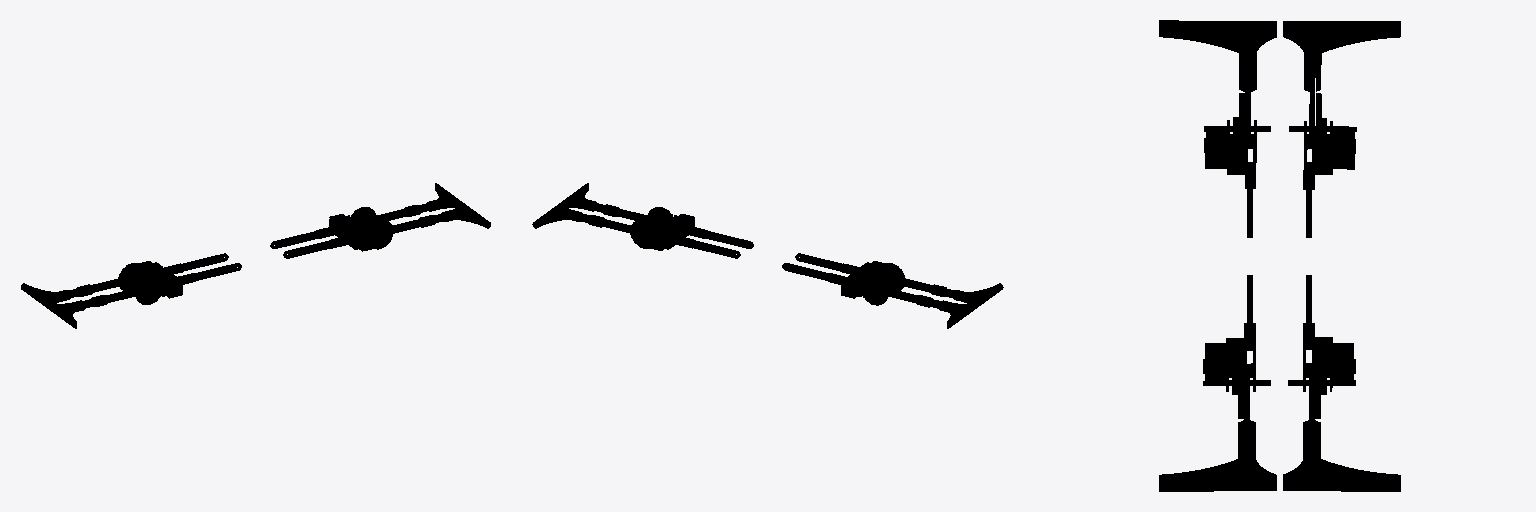
robot.urdf — quadruped:
<?xml version ="1.0" encoding="utf-8"?>

<robot name="quadruped" >


  <link name="dummy">
  </link>

  <material name="black">
    <color rgba="0 0 0 0.5"/>
  </material>

  <joint name="dummy_joint" type="fixed">
     <parent link="dummy"/>
     <child link="body"/>
  </joint>

  <link name="body">
    <inertial>
      <mass value="8.4" />
      <inertia ixx="0.14596" ixy="0.00010"  ixz="0.00013"
               iyy="0.08855" iyz="-0.03467"
               izz="0.11796" />
    </inertial>
    <visual>
      <origin rpy="1.57 0 1.57" xyz="0 0 0"/>
      <geometry>
        <mesh filename="package://quadruped_description/meshes/frame_aluminum_motor_case.stl"/>
      </geometry>
      <material name="black"/>
    </visual>
    <collision>
      <origin
        xyz="0 0 0"
        rpy="1.57 0 1.57" />
      <geometry>
        <mesh
          filename="package://quadruped_description/meshes/frame_aluminum_motor_case.stl" />
      </geometry>
    </collision>
  </link>

  <link name="front_left_u">
    <inertial>
      <mass value="0.814" />
      <inertia ixx="0.008" ixy="0.0"  ixz="0.001"
               iyy="0.008" iyz="0.001"
               izz="0.001" />
    </inertial>
    <visual>
      <origin rpy="1.57 0 1.57" xyz="0 0 0"/>
      <geometry>
        <mesh filename="package://quadruped_description/meshes/joint_gear_upper_assembly.stl"/>
      </geometry>
      <material name="black"/>
    </visual>
    <collision>
      <origin
        xyz="0 0 0"
        rpy="1.57 0 1.57" />
      <geometry>
        <mesh
          filename="package://quadruped_description/meshes/joint_gear_upper_assembly.stl" />
      </geometry>
    </collision>
  </link>

  <link name="front_right_u">
    <inertial>
      <mass value="0.814" />
      <inertia ixx="7701247.352E-09" ixy="96047.710E-09"  ixz="-1228944.675E-09"
               iyy="7801785.041E-09" iyz="550113.749E-09"
               izz="877983.793E-09" />
    </inertial>
    <visual>
      <origin rpy="1.57 3.14 1.57" xyz="0 0 0"/>
      <geometry>
        <mesh filename="package://quadruped_description/meshes/joint_gear_upper_assembly.stl"/>
      </geometry>
      <material name="black"/>
    </visual>
    <collision>
      <origin
        xyz="0 0 0"
        rpy="1.57 3.14 1.57" />
      <geometry>
        <mesh
          filename="package://quadruped_description/meshes/joint_gear_upper_assembly.stl" />
      </geometry>
    </collision>
  </link>

  <link name="back_left_u">
    <inertial>
      <mass value="0.814" />
      <inertia ixx="7701247.352E-09" ixy="96047.710E-09"  ixz="-1228944.675E-09"
               iyy="7801785.041E-09" iyz="550113.749E-09"
               izz="877983.793E-09" />
    </inertial>
    <visual>
      <origin rpy="1.57 3.14 1.57" xyz="0 0 0"/>
      <geometry>
        <mesh filename="package://quadruped_description/meshes/joint_gear_upper_assembly.stl"/>
      </geometry>
      <material name="black"/>
    </visual>
    <collision>
      <origin
        xyz="0 0 0"
        rpy="1.57 3.14 1.57" />
      <geometry>
        <mesh
          filename="package://quadruped_description/meshes/joint_gear_upper_assembly.stl" />
      </geometry>
    </collision>
  </link>

  <link name="back_right_u">
    <inertial>
      <mass value="0.814" />
      <inertia ixx="7701247.352E-09" ixy="96047.710E-09"  ixz="-1228944.675E-09"
               iyy="7801785.041E-09" iyz="550113.749E-09"
               izz="877983.793E-09" />
    </inertial>
    <visual>
      <origin rpy="1.57 0 1.57" xyz="0 0 0"/>
      <geometry>
        <mesh filename="package://quadruped_description/meshes/joint_gear_upper_assembly.stl"/>
      </geometry>
      <material name="black"/>
    </visual>
    <collision>
      <origin
        xyz="0 0 0"
        rpy="1.57 0 1.57" />
      <geometry>
        <mesh
          filename="package://quadruped_description/meshes/joint_gear_upper_assembly.stl" />
      </geometry>
    </collision>
  </link>

  <link name="front_left_d">
    <inertial>
      <mass value="0.5" />
      <inertia ixx="7141392.287E-09" ixy="-13.226E-09"  ixz="-913664.184E-09"
               iyy="7895374.282E-09" iyz="-31.485E-09"
               izz="830881.651E-09" />
    </inertial>
    <visual>
      <origin rpy="1.57 0 1.57" xyz="0 0 0"/>
      <geometry>
        <mesh filename="package://quadruped_description/meshes/Assembly_lower_link_v2.stl"/>
      </geometry>
      <material name="black"/>
    </visual>
    <collision>
      <origin
        xyz="0 0 0"
        rpy="1.57 0 1.57" />
      <geometry>
        <mesh
          filename="package://quadruped_description/meshes/Assembly_lower_link_v2.stl" />
      </geometry>
    </collision>
  </link>

  <link name="front_right_d">
    <inertial>
      <mass value="0.5" />
      <inertia ixx="7141392.287E-09" ixy="-13.226E-09"  ixz="-913664.184E-09"
               iyy="7895374.282E-09" iyz="-31.485E-09"
               izz="830881.651E-09" />
    </inertial>
    <visual>
      <origin rpy="-1.57 0 -1.57" xyz="0 0 0"/>
      <geometry>
        <mesh filename="package://quadruped_description/meshes/Assembly_lower_link_v2.stl"/>
      </geometry>
      <material name="black"/>
    </visual>
    <collision>
      <origin
        xyz="0 0 0"
        rpy="-1.57 0 -1.57" />
      <geometry>
        <mesh
          filename="package://quadruped_description/meshes/Assembly_lower_link_v2.stl" />
      </geometry>
    </collision>
  </link>
  
  <link name="back_left_d">
    <inertial>
      <mass value="0.5" />
      <inertia ixx="7141392.287E-09" ixy="-13.226E-09"  ixz="-913664.184E-09"
               iyy="7895374.282E-09" iyz="-31.485E-09"
               izz="830881.651E-09" />
    </inertial>
    <visual>
      <origin rpy="-1.57 0 -1.57" xyz="0 0 0"/>
      <geometry>
        <mesh filename="package://quadruped_description/meshes/Assembly_lower_link_v2.stl"/>
      </geometry>
      <material name="black"/>
    </visual>
    <collision>
      <origin
        xyz="0 0 0"
        rpy="-1.57 0 -1.57" />
      <geometry>
        <mesh
          filename="package://quadruped_description/meshes/Assembly_lower_link_v2.stl" />
      </geometry>
    </collision>
  </link>
  
  <link name="back_right_d">
    <inertial>
      <mass value="0.5" />
      <inertia ixx="7141392.287E-09" ixy="-13.226E-09"  ixz="-913664.184E-09"
               iyy="7895374.282E-09" iyz="-31.485E-09"
               izz="830881.651E-09" />
    </inertial>
    <visual>
      <origin rpy="1.57 0 1.57" xyz="0 0 0"/>
      <geometry>
        <mesh filename="package://quadruped_description/meshes/Assembly_lower_link_v2.stl"/>
      </geometry>
      <material name="black"/>
    </visual>
    <collision>
      <origin
        xyz="0 0 0"
        rpy="1.57 0 1.57" />
      <geometry>
        <mesh
          filename="package://quadruped_description/meshes/Assembly_lower_link_v2.stl" />
      </geometry>
    </collision>
  </link>
 
    <joint name="front_right_joint1" type="revolute">
    <limit effort="1000.0" lower="-3.14" upper="3.14" velocity="0.5"/>
    <parent link="body"/>
    <child link="front_right_u"/>
    <origin xyz="0.11 -0.05 0" rpy="0 0 0" />
    <axis xyz="0 1 0" />
  </joint>

  <joint name="front_right_joint2" type="revolute">
    <limit effort="1000.0" lower="-3.14" upper="3.14" velocity="0.5"/>
    <parent link="front_right_u"/>
    <child link="front_right_d"/>
    <origin xyz="0.4 -0.005 0" rpy="0 0 0" />
    <axis xyz="0 1 0" />
  </joint>

  <joint name="front_left_joint1" type="revolute">
    <limit effort="1000.0" lower="-3.14" upper="3.14" velocity="0.5"/>
    <parent link="body"/>
    <child link="front_left_u"/>
    <origin xyz="0.11 0.05 0" rpy="0 0 0" />
    <axis xyz="0 1 0" />
  </joint>

  <joint name="front_left_joint2" type="revolute">
    <limit effort="1000.0" lower="-3.14" upper="3.14" velocity="0.5"/>
    <parent link="front_left_u"/>
    <child link="front_left_d"/>
    <origin xyz="0.4 0.005 0" rpy="0 0 0" />
    <axis xyz="0 1 0" />
  </joint>

  <joint name="back_left_joint1" type="revolute">
    <limit effort="1000.0" lower="-3.14" upper="3.14" velocity="0.5"/>
    <parent link="body"/>
    <child link="back_left_u"/>
    <origin xyz="-0.11 0.05 0" rpy="0 0 3.14" />
    <axis xyz="0 1 0" />
  </joint>

  <joint name="back_left_joint2" type="revolute">
    <limit effort="1000.0" lower="-3.14" upper="3.14" velocity="0.5"/>
    <parent link="back_left_u"/>
    <child link="back_left_d"/>
    <origin xyz="0.4 -0.005 0" rpy="0 0 0" />
    <axis xyz="0 1 0" />
  </joint>

  <joint name="back_right_joint1" type="revolute">
    <limit effort="1000.0" lower="-3.14" upper="3.14" velocity="0.5"/>
    <parent link="body"/>
    <child link="back_right_u"/>
    <origin xyz="-0.11 -0.05 0" rpy="0 0 3.14" />
    <axis xyz="0 1 0" />
  </joint>  

  <joint name="back_right_joint2" type="revolute">
    <limit effort="1000.0" lower="-3.14" upper="3.14" velocity="0.5"/>
    <parent link="back_right_u"/>
    <child link="back_right_d"/>
    <origin xyz="0.4 0.005 0" rpy="0 0 0" />
    <axis xyz="0 1 0" />
  </joint>

  <!-- ///////////////////////////////////////////////////////////////////////////////////////////////////////////////////// -->
  <!-- Transmissions for ROS Control -->

  <transmission name="tran1">
    <type>transmission_interface/SimpleTransmission</type>
    <joint name="front_right_joint1">
      <hardwareInterface>hardware_interface/PositionJointInterface</hardwareInterface>
    </joint>
    <actuator name="motor1">
      <hardwareInterface>hardware_interface/PositionJointInterface</hardwareInterface>
      <mechanicalReduction>1</mechanicalReduction>
    </actuator>
  </transmission>
  
  <transmission name="tran2">
    <type>transmission_interface/SimpleTransmission</type>
    <joint name="front_right_joint2">
      <hardwareInterface>hardware_interface/PositionJointInterface</hardwareInterface>
    </joint>
    <actuator name="motor2">
      <hardwareInterface>hardware_interface/PositionJointInterface</hardwareInterface>
      <mechanicalReduction>1</mechanicalReduction>
    </actuator>
  </transmission>

  <transmission name="tran3">
    <type>transmission_interface/SimpleTransmission</type>
    <joint name="front_left_joint1">
      <hardwareInterface>hardware_interface/PositionJointInterface</hardwareInterface>
    </joint>
    <actuator name="motor3">
      <hardwareInterface>hardware_interface/PositionJointInterface</hardwareInterface>
      <mechanicalReduction>1</mechanicalReduction>
    </actuator>
  </transmission>

  <transmission name="tran4">
    <type>transmission_interface/SimpleTransmission</type>
    <joint name="front_left_joint2">
      <hardwareInterface>hardware_interface/PositionJointInterface</hardwareInterface>
    </joint>
    <actuator name="motor4">
      <hardwareInterface>hardware_interface/PositionJointInterface</hardwareInterface>
      <mechanicalReduction>1</mechanicalReduction>
    </actuator>
  </transmission>

  <transmission name="tran5">
    <type>transmission_interface/SimpleTransmission</type>
    <joint name="back_left_joint1">
      <hardwareInterface>hardware_interface/PositionJointInterface</hardwareInterface>
    </joint>
    <actuator name="motor5">
      <hardwareInterface>hardware_interface/PositionJointInterface</hardwareInterface>
      <mechanicalReduction>1</mechanicalReduction>
    </actuator>
  </transmission>

  <transmission name="tran6">
    <type>transmission_interface/SimpleTransmission</type>
    <joint name="back_left_joint2">
      <hardwareInterface>hardware_interface/PositionJointInterface</hardwareInterface>
    </joint>
    <actuator name="motor6">
      <hardwareInterface>hardware_interface/PositionJointInterface</hardwareInterface>
      <mechanicalReduction>1</mechanicalReduction>
    </actuator>
  </transmission>

  <transmission name="tran7">
    <type>transmission_interface/SimpleTransmission</type>
    <joint name="back_right_joint1">
      <hardwareInterface>hardware_interface/PositionJointInterface</hardwareInterface>
    </joint>
    <actuator name="motor7">
      <hardwareInterface>hardware_interface/PositionJointInterface</hardwareInterface>
      <mechanicalReduction>1</mechanicalReduction>
    </actuator>
  </transmission>

  <transmission name="tran8">
    <type>transmission_interface/SimpleTransmission</type>
    <joint name="back_right_joint2">
      <hardwareInterface>hardware_interface/PositionJointInterface</hardwareInterface>
    </joint>
    <actuator name="motor8">
      <hardwareInterface>hardware_interface/PositionJointInterface</hardwareInterface>
      <mechanicalReduction>1</mechanicalReduction>
    </actuator>
  </transmission>

  <!-- ros_control plugin -->
  <gazebo>
    <plugin name="gazebo_ros_control" filename="libgazebo_ros_control.so">
      <robotNamespace>/quadruped</robotNamespace>
    </plugin>
  </gazebo>



</robot>

--- What the picture shows (computed from the rendered views, not written in the file) ---
The picture shows the robot from 3 angles, left to right: view 1: azimuth 30°, elevation 25°; view 2: azimuth 150°, elevation 25°; view 3: azimuth 270°, elevation 25°; orthographic projection.
Robot: quadruped — 10 links, 9 joints (8 revolute, 1 fixed); root link dummy; default pose: all joints at 0.
Visible links, largest first — view 1: back_right_u, front_right_u, front_left_u, back_left_u, back_left_d, front_right_d, front_left_d, back_right_d; view 2: back_left_u, front_left_u, front_right_u, back_right_u, back_right_d, front_left_d, front_right_d, back_left_d; view 3: front_left_d, front_right_d, back_right_d, back_left_d, back_right_u, back_left_u, front_left_u, front_right_u.
Boxes of the visible links, left/top/right/bottom form: back_right_u: left=135, top=263, right=241, bottom=304; front_right_u: left=283, top=219, right=393, bottom=258; front_left_u: left=270, top=207, right=376, bottom=248; back_left_u: left=118, top=253, right=228, bottom=290; back_left_d: left=21, top=275, right=139, bottom=308; front_right_d: left=382, top=203, right=490, bottom=238; front_left_d: left=361, top=183, right=462, bottom=227; back_right_d: left=48, top=288, right=154, bottom=328; back_left_u: left=782, top=263, right=888, bottom=305; front_left_u: left=630, top=219, right=740, bottom=258; front_right_u: left=648, top=207, right=753, bottom=248; back_right_u: left=795, top=253, right=904, bottom=290; back_right_d: left=884, top=275, right=1003, bottom=308; front_left_d: left=532, top=203, right=641, bottom=238; front_right_d: left=561, top=183, right=662, bottom=226; back_left_d: left=869, top=288, right=975, bottom=328; front_left_d: left=1283, top=374, right=1400, bottom=491; front_right_d: left=1159, top=374, right=1276, bottom=491; back_right_d: left=1159, top=20, right=1276, bottom=133; back_left_d: left=1283, top=21, right=1400, bottom=133; back_right_u: left=1204, top=93, right=1256, bottom=237; back_left_u: left=1303, top=93, right=1356, bottom=237; front_left_u: left=1303, top=275, right=1355, bottom=418; front_right_u: left=1203, top=275, right=1255, bottom=418.
Bounding box of the posed robot: 1.85 × 0.4116 × 0.1227 m (x, y, z).
8 mesh visuals loaded from 3 distinct referenced files (2 binary STL); not drawn: 1 (reference not matched to a file when rendering).
